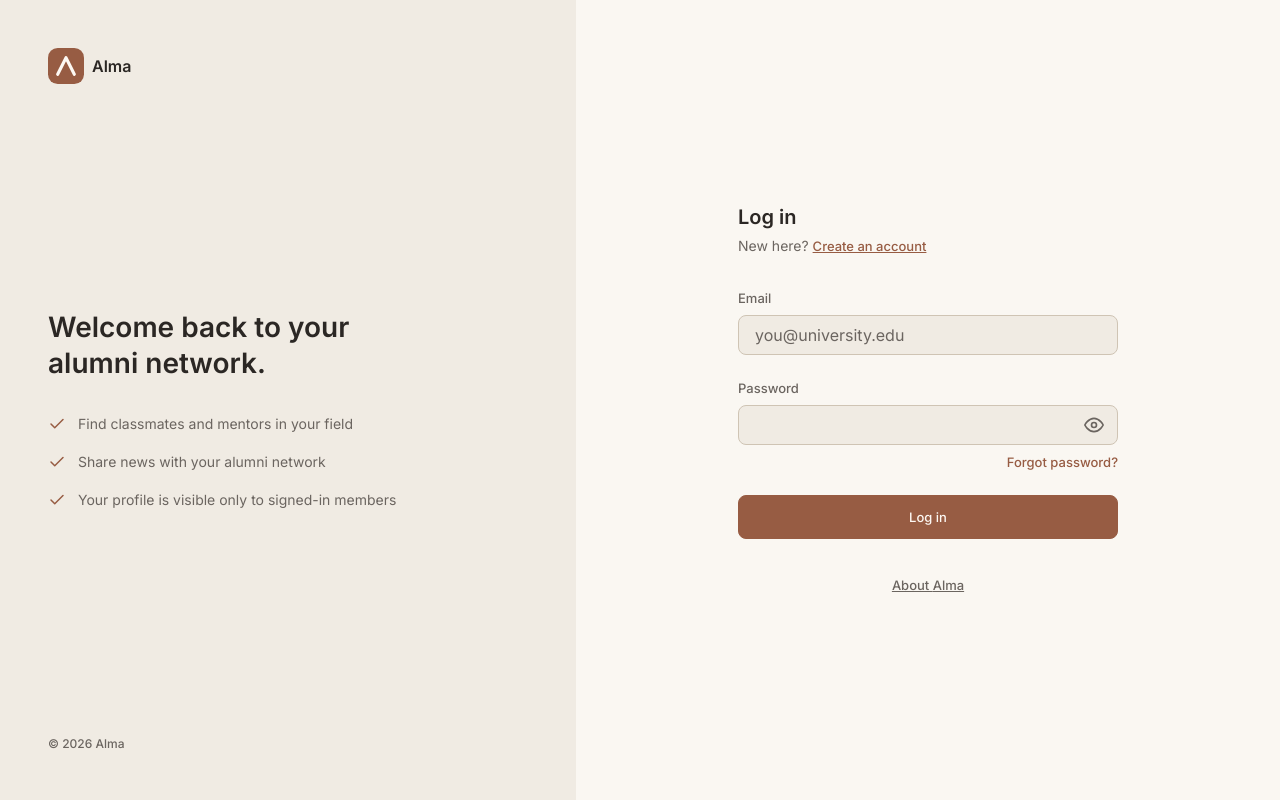
LoginPage › on 401 shows one message, keeps the email and clears the password
This screenshot has width=1280, height=800.
Type "amina@example.com" into the field labelled "Email" at (928, 335), box [738,315,1118,355]
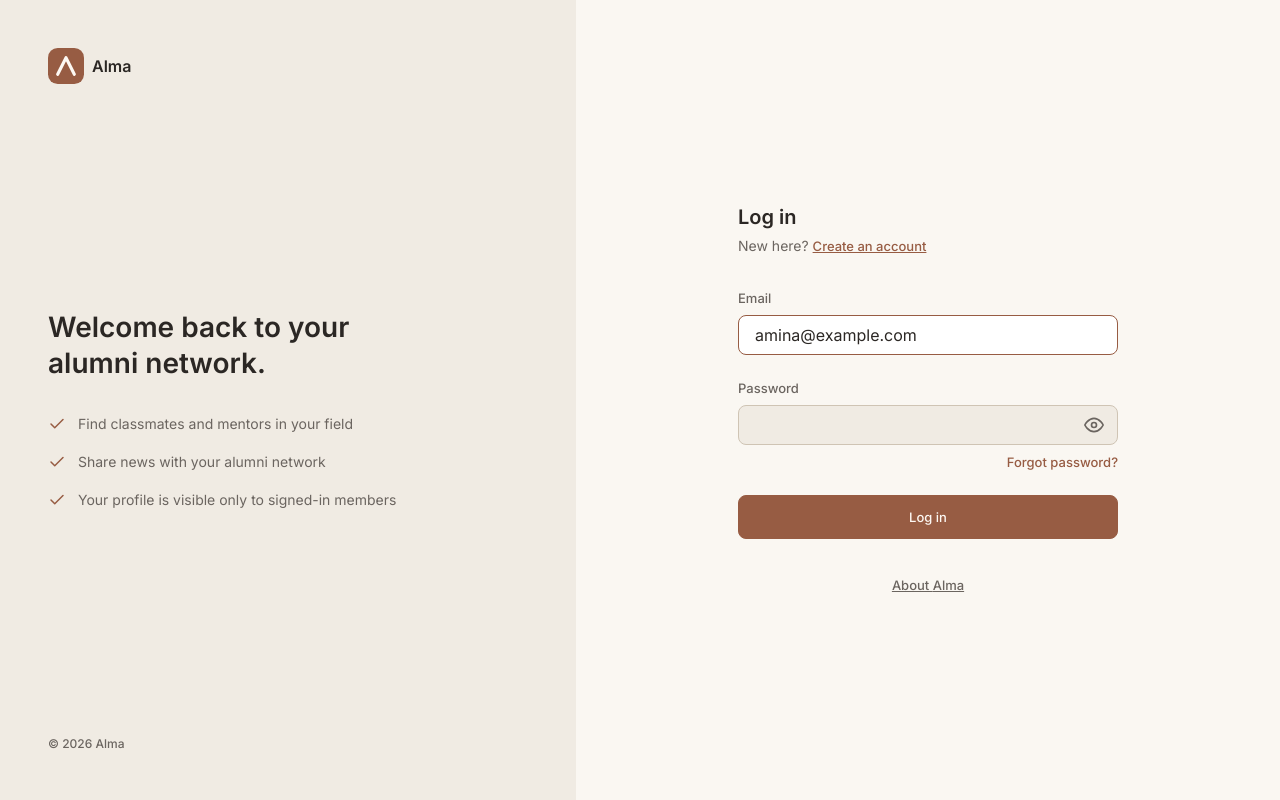
Type "wrong password" into the password field labelled "Password" at (928, 425), box [738,405,1118,445]
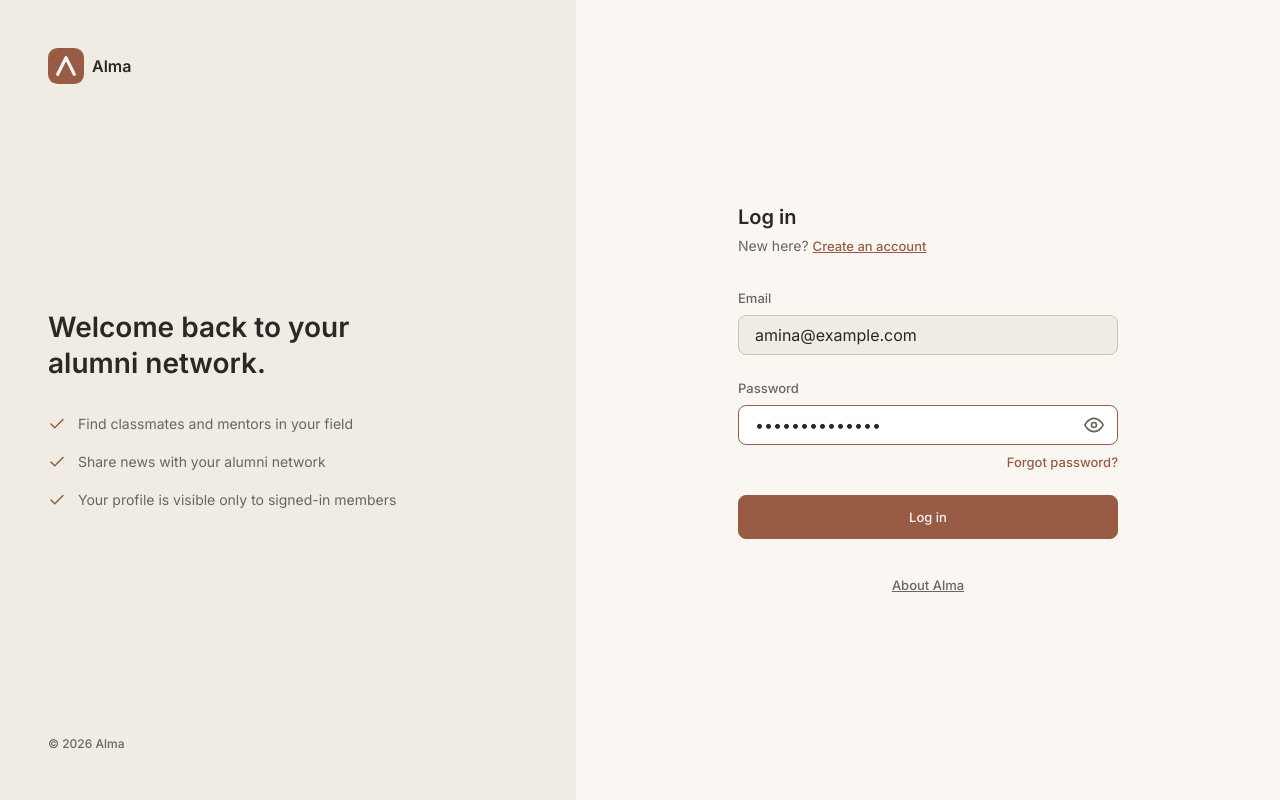
Click the button "Log in" at (928, 517), box [738,495,1118,539]
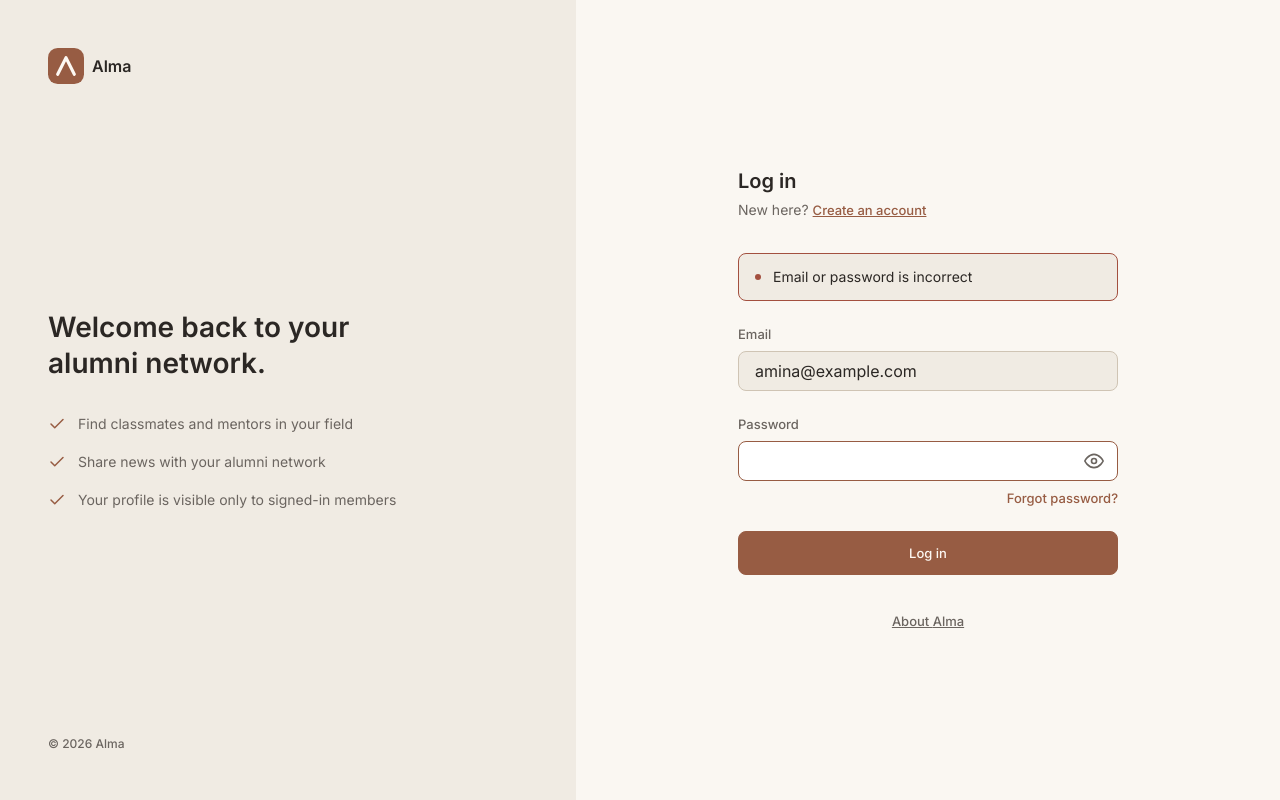
Expected: the message reads "Email or password is incorrect", [773,268,972,285]
Expected: the password field labelled "Password" is empty, [738,441,1118,481]
